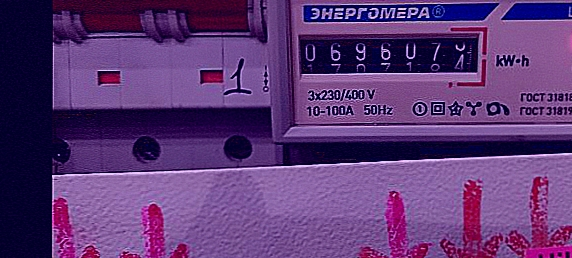0: (401, 39, 416, 61), (301, 41, 315, 63)
4: (451, 52, 464, 73)
6: (326, 41, 340, 62), (376, 41, 390, 61)
7: (426, 41, 441, 62)
9: (351, 41, 364, 62)
screen: (284, 24, 490, 84)
